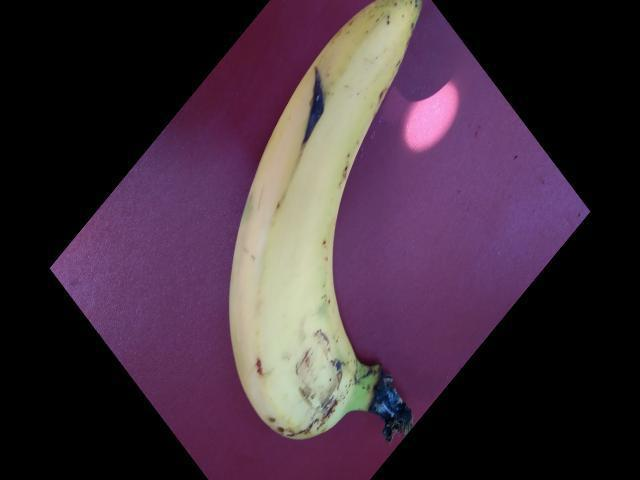ripe: (212, 0, 436, 450)
